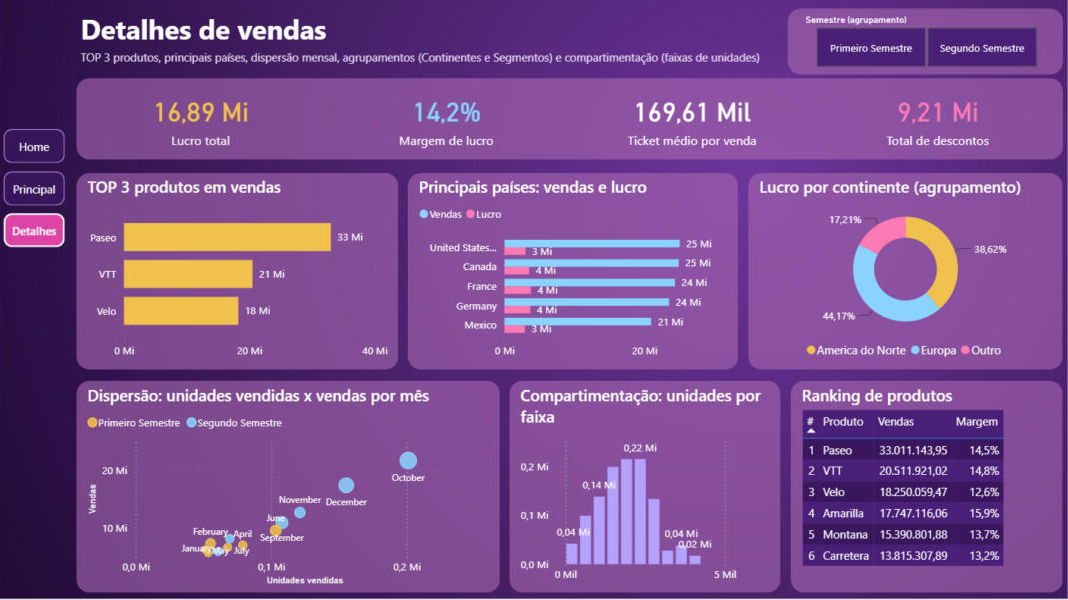

Layout of this report page (visuals, bound fields, positions):
{"tool":"powerbi","page":{"name":"Detalhes","canvas":[1280,720],"ordinal":2},"visuals":[{"type":"image","title":"fundo_purple","box":[0,0,1280,720],"z":0},{"type":"textbox","box":[100,14,700,60],"z":100},{"type":"textbox","box":[100,62,830,36],"z":101},{"type":"shape","box":[940,18,325,78],"z":150},{"type":"slicer","fields":{"Values":["financials.Semestres"]},"box":[948,20,310,74],"z":200},{"type":"shape","box":[100,100,1165,96],"z":300},{"type":"card","fields":{"Values":["financials.Total Profit"]},"box":[112,104,270,88],"z":400},{"type":"card","fields":{"Values":["financials.Margem de Lucro"]},"box":[402,104,270,88],"z":401},{"type":"card","fields":{"Values":["financials.Ticket Médio"]},"box":[692,104,270,88],"z":402},{"type":"card","fields":{"Values":["financials.Total Discounts"]},"box":[982,104,270,88],"z":403},{"type":"shape","box":[100,212,380,232],"z":1000},{"type":"clusteredBarChart","title":"TOP 3 produtos em vendas","fields":{"Category":["financials.Product"],"Y":["financials.TOP3 PRODUCT"]},"box":[108,216,364,224],"z":1100},{"type":"shape","box":[492,212,390,232],"z":1200},{"type":"clusteredBarChart","title":"Principais países: vendas e lucro","fields":{"Category":["financials.Country"],"Y":["financials.total sales","financials.Total Profit"]},"box":[500,216,374,224],"z":1300},{"type":"shape","box":[894,212,371,232],"z":1400},{"type":"donutChart","title":"Lucro por continente (agrupamento)","fields":{"Category":["financials.Continentes"],"Y":["financials.Total Profit"]},"box":[902,216,355,224],"z":1500},{"type":"shape","box":[100,458,500,250],"z":2000},{"type":"scatterChart","title":"Dispersão: unidades vendidas x vendas por mês","fields":{"Category":["financials.Month Name"],"Series":["financials.Semestres"],"X":["Sum(financials.Units Sold)"],"Y":["financials.total sales"],"Size":["financials.Total Profit"]},"box":[108,462,484,242],"z":2100},{"type":"shape","box":[612,458,320,250],"z":2200},{"type":"clusteredColumnChart","title":"Compartimentação: unidades por faixa","fields":{"Category":["financials.Buckets"],"Y":["financials.total de vendidos"]},"box":[620,462,304,242],"z":2300},{"type":"shape","box":[944,458,321,250],"z":2400},{"type":"tableEx","title":"Ranking de produtos","fields":{"Values":["financials.Ranking Produto","financials.Product","financials.total sales","financials.Margem de Lucro"]},"box":[952,462,305,242],"z":2500},{"type":"actionButton","title":"Menu - Home","box":[14,160,72,40],"z":20000},{"type":"actionButton","title":"Menu - Principal","box":[14,210,72,40],"z":20010},{"type":"actionButton","title":"Menu - Detalhes","box":[14,260,72,40],"z":20020}]}

Visuals, with their boxes in screenshot pixels (x1, y1, x2, y2), scaled from the page's 1280x720 canvas onto the 1068x600 screenshot:
"fundo_purple" image: pyautogui.locateOnScreen(0, 0, 1067, 599)
textbox: pyautogui.locateOnScreen(83, 12, 668, 62)
textbox: pyautogui.locateOnScreen(83, 52, 776, 82)
shape: pyautogui.locateOnScreen(784, 15, 1055, 80)
slicer - financials.Semestres: pyautogui.locateOnScreen(791, 17, 1050, 78)
shape: pyautogui.locateOnScreen(83, 83, 1055, 163)
card - financials.Total Profit: pyautogui.locateOnScreen(93, 87, 319, 160)
card - financials.Margem de Lucro: pyautogui.locateOnScreen(335, 87, 561, 160)
card - financials.Ticket Médio: pyautogui.locateOnScreen(577, 87, 803, 160)
card - financials.Total Discounts: pyautogui.locateOnScreen(819, 87, 1045, 160)
shape: pyautogui.locateOnScreen(83, 177, 400, 370)
"TOP 3 produtos em vendas" clusteredBarChart: pyautogui.locateOnScreen(90, 180, 394, 367)
shape: pyautogui.locateOnScreen(411, 177, 736, 370)
"Principais países: vendas e lucro" clusteredBarChart: pyautogui.locateOnScreen(417, 180, 729, 367)
shape: pyautogui.locateOnScreen(746, 177, 1055, 370)
"Lucro por continente (agrupamento)" donutChart: pyautogui.locateOnScreen(753, 180, 1049, 367)
shape: pyautogui.locateOnScreen(83, 382, 501, 590)
"Dispersão: unidades vendidas x vendas por mês" scatterChart: pyautogui.locateOnScreen(90, 385, 494, 587)
shape: pyautogui.locateOnScreen(511, 382, 778, 590)
"Compartimentação: unidades por faixa" clusteredColumnChart: pyautogui.locateOnScreen(517, 385, 771, 587)
shape: pyautogui.locateOnScreen(788, 382, 1055, 590)
"Ranking de produtos" tableEx: pyautogui.locateOnScreen(794, 385, 1049, 587)
"Menu - Home" actionButton: pyautogui.locateOnScreen(12, 133, 72, 167)
"Menu - Principal" actionButton: pyautogui.locateOnScreen(12, 175, 72, 208)
"Menu - Detalhes" actionButton: pyautogui.locateOnScreen(12, 217, 72, 250)
